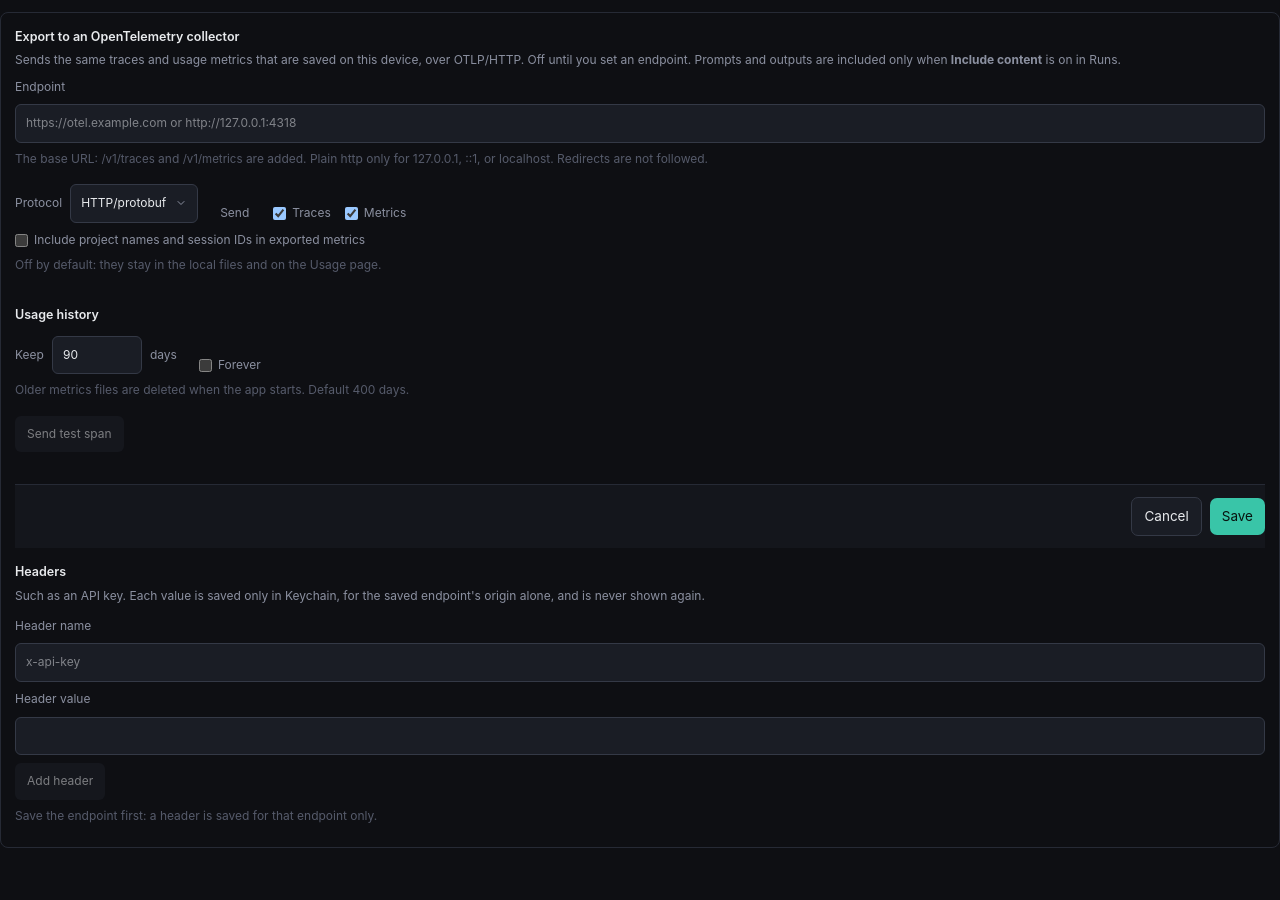
telemetry settings › refuses retention outside 30 to 3,650 days
Replace the text in the number field with "10" at x=97, y=355, box [52,336,142,374]
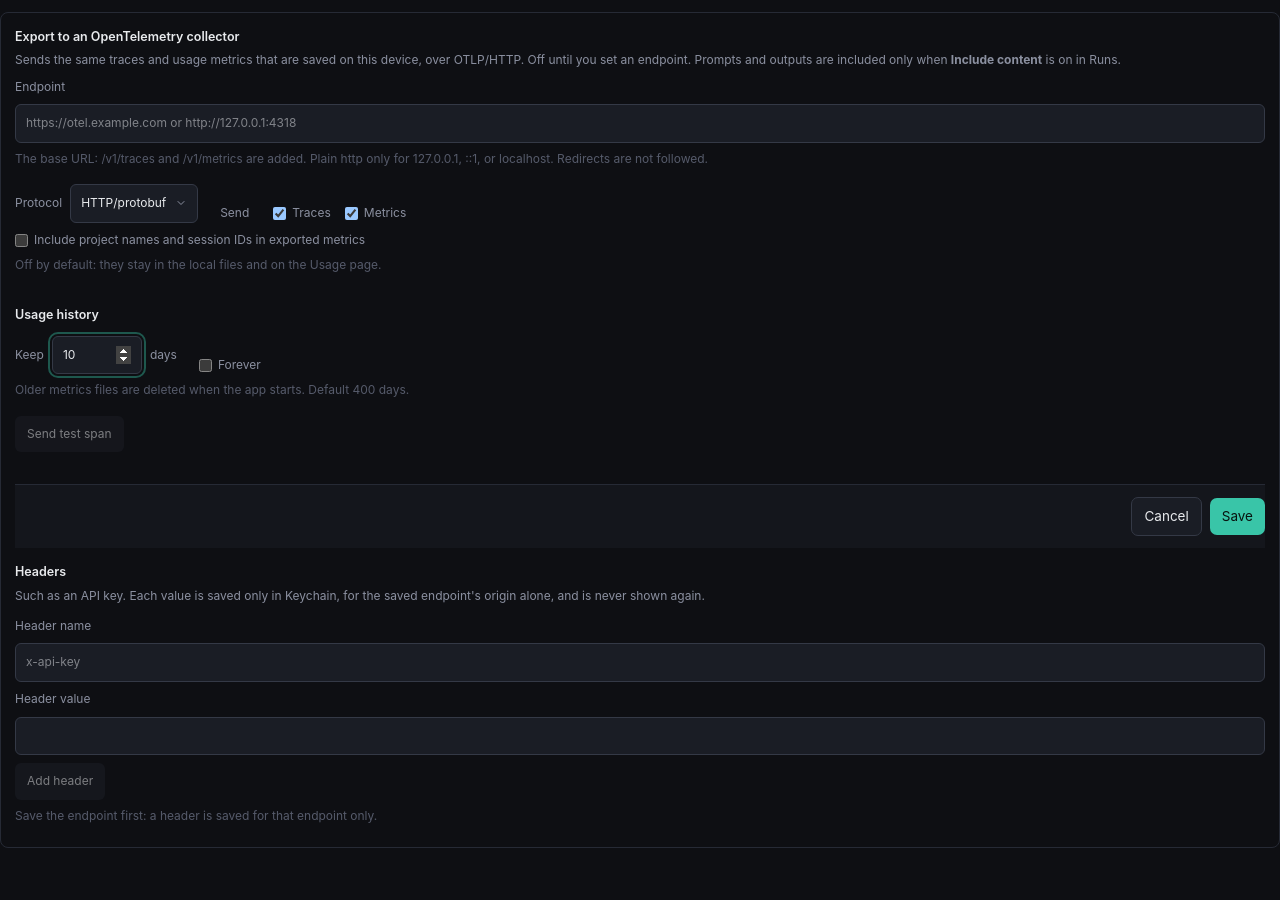
Expected: the button "Save" is disabled, [1210,498,1265,535]
Click the button "Cancel" at x=1167, y=517, box [1132,497,1202,536]
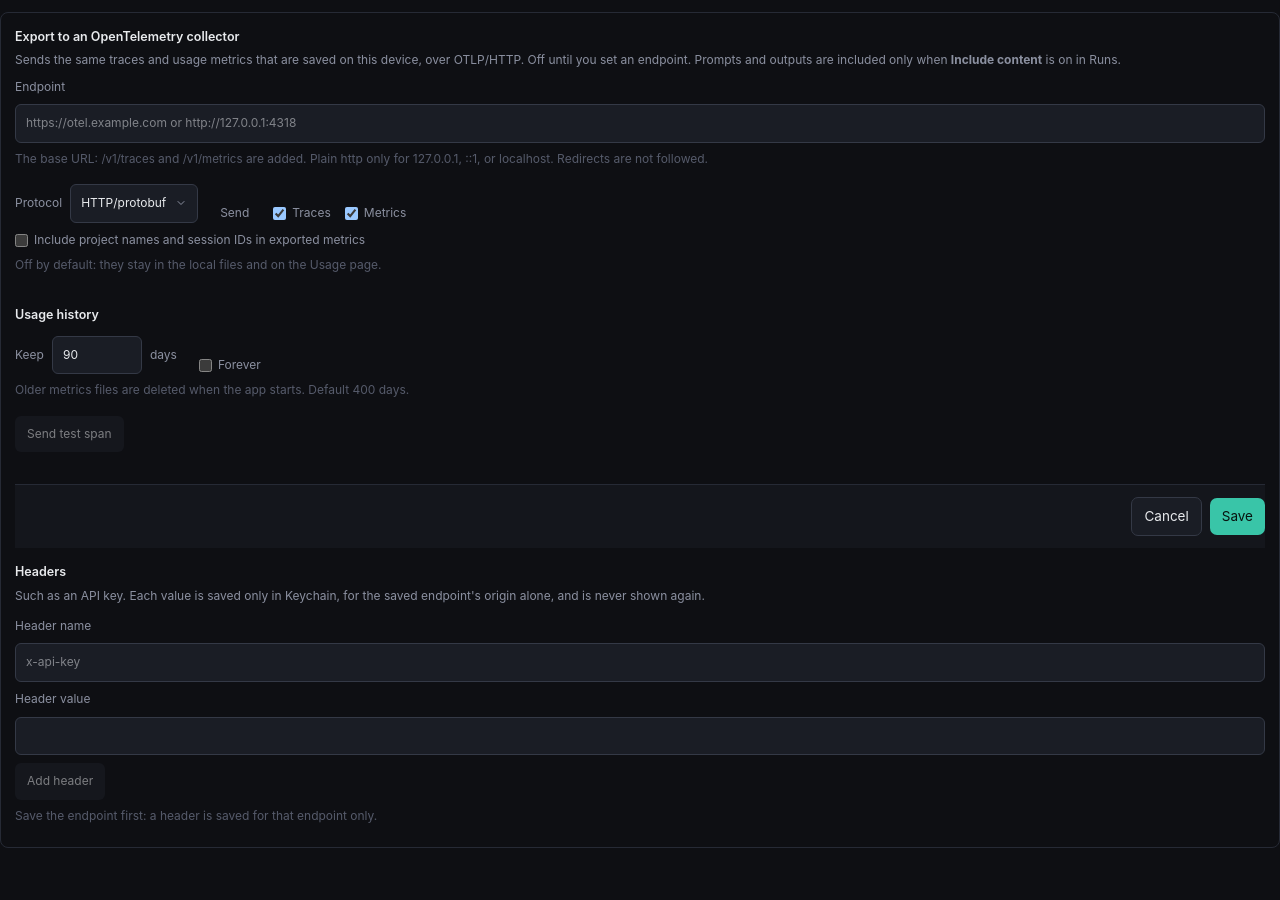
Expected: the number field holds "90", [52,336,142,374]
